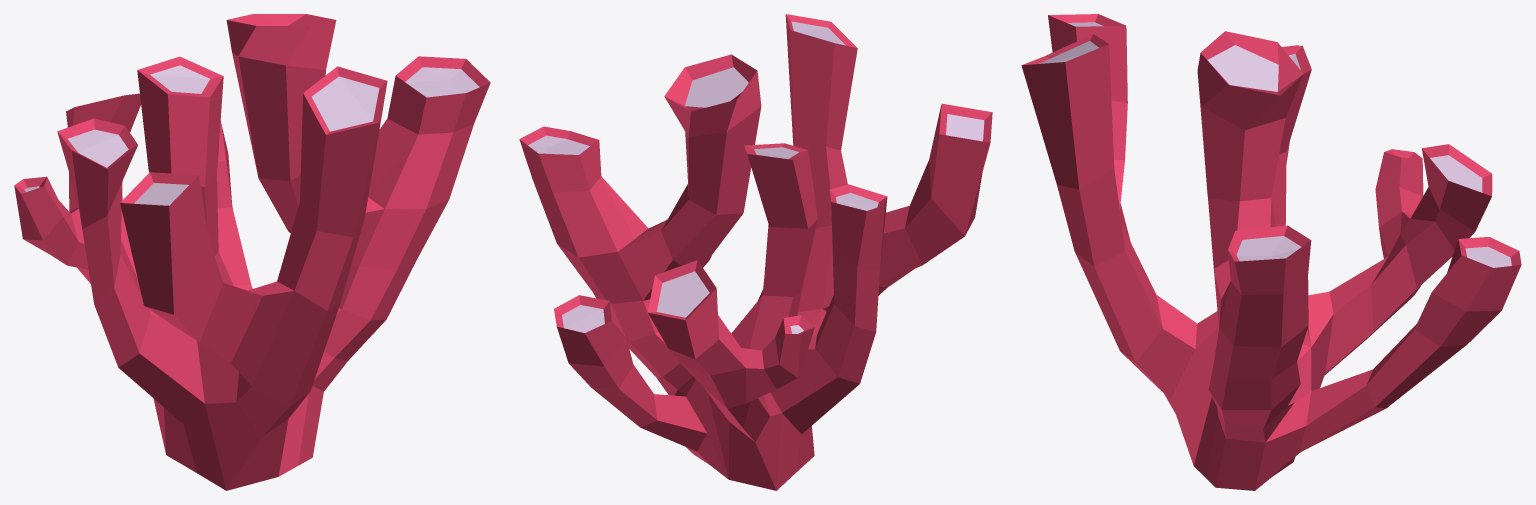
Rendered from SeaObj01.fbx.
The picture shows the model from 3 angles, left to right: view 1: azimuth 30°, elevation 25°; view 2: azimuth 150°, elevation 25°; view 3: azimuth 270°, elevation 25°; orthographic projection. The views are drawn at different scales.
Visible parts, largest first — view 1: Plane.003; view 2: Plane.003; view 3: Plane.003.
Part boxes in pixels (x1,y1,x2,y2): Plane.003: (14,14,490,490); Plane.003: (519,14,992,490); Plane.003: (1021,14,1521,490).
Bounding box in the file's own units: 243 × 231 × 243.
